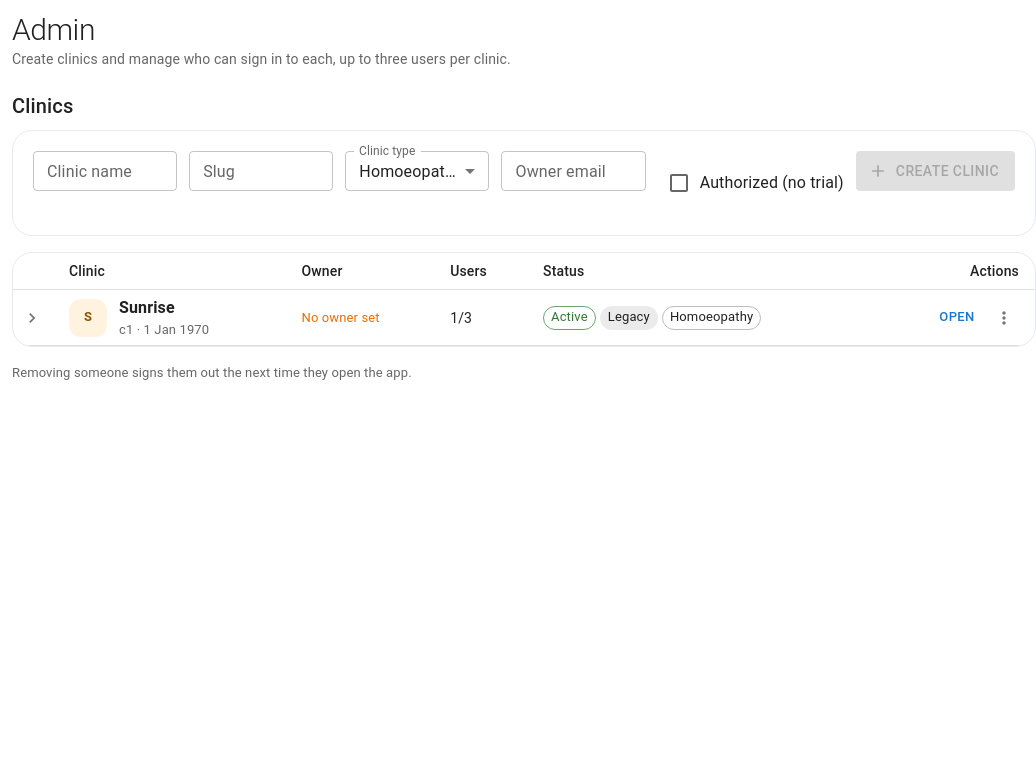
Test: clinic without owner shows No owner set; legacy entry shows a dash seat
The image size is (1036, 780).
Expected: the text "No owner set" is shown, left=302, top=310, right=380, bottom=325
Step 1. Click the button named "Show users of Sunrise" → (32, 318), box left=17, top=303, right=47, bottom=333
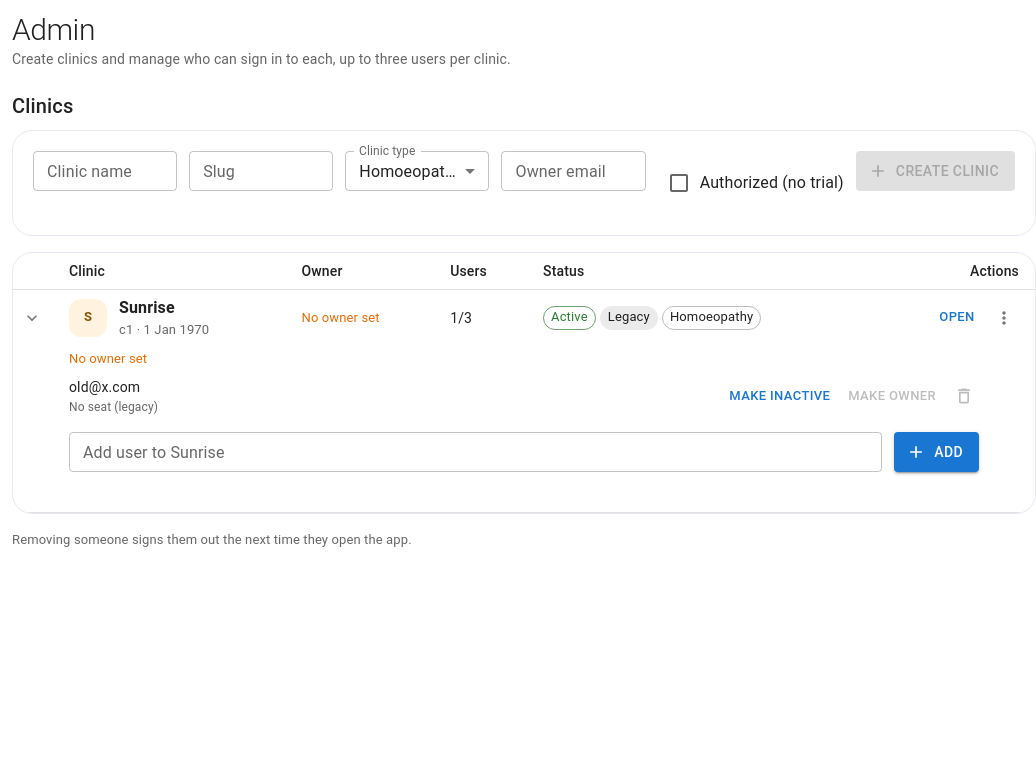
Expected: the text "No seat (legacy)" is shown, left=69, top=400, right=158, bottom=414
